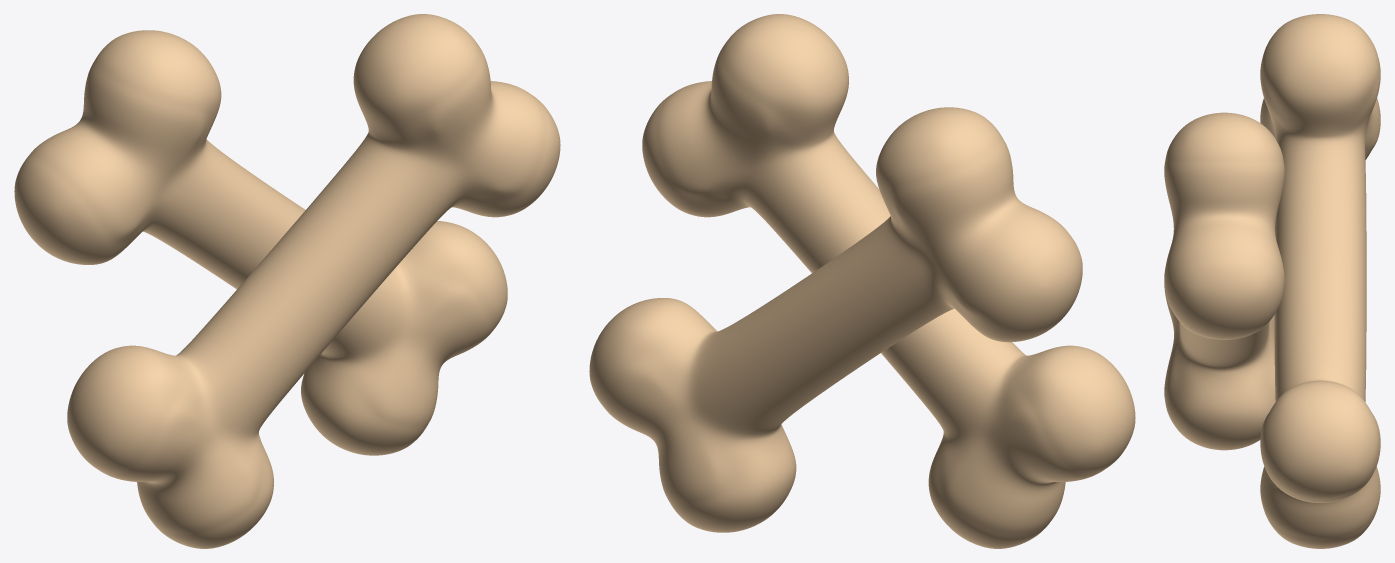
Rendered from Bone.fbx.
3 renders of one model, left to right at view 1: azimuth 30°, elevation 25°; view 2: azimuth 150°, elevation 25°; view 3: azimuth 270°, elevation 25°, orthographic. The views are drawn at different scales.
Visible parts, largest first — view 1: Bone.003, Bone.002; view 2: Bone.002, Bone.003; view 3: Bone.002, Bone.003.
Part boxes in pixels (left/top/right/bottom): Bone.003: left=67, top=14, right=560, bottom=548; Bone.002: left=14, top=30, right=507, bottom=455; Bone.002: left=589, top=107, right=1082, bottom=532; Bone.003: left=642, top=14, right=1135, bottom=548; Bone.002: left=1260, top=14, right=1380, bottom=548; Bone.003: left=1164, top=112, right=1284, bottom=450.
Size of the model in its own units: 243 by 229 by 106.
